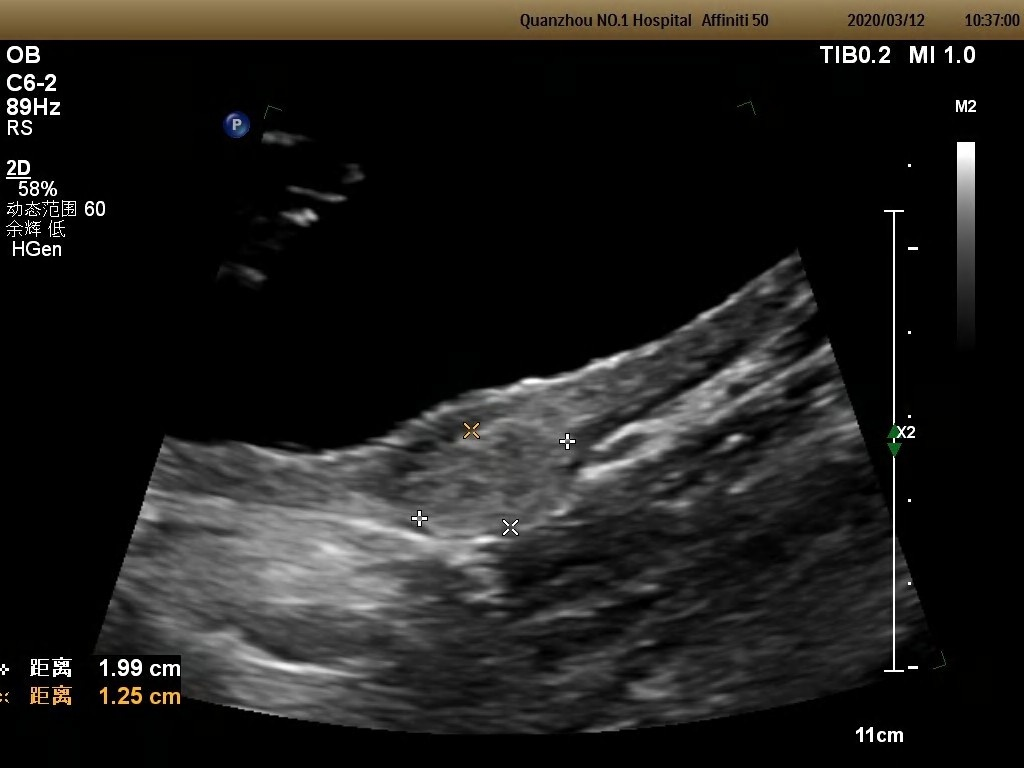肌瘤: (402, 440, 565, 520)
